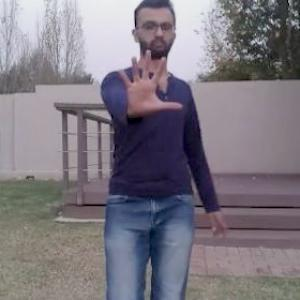follow_hand: (115, 44, 183, 120)
